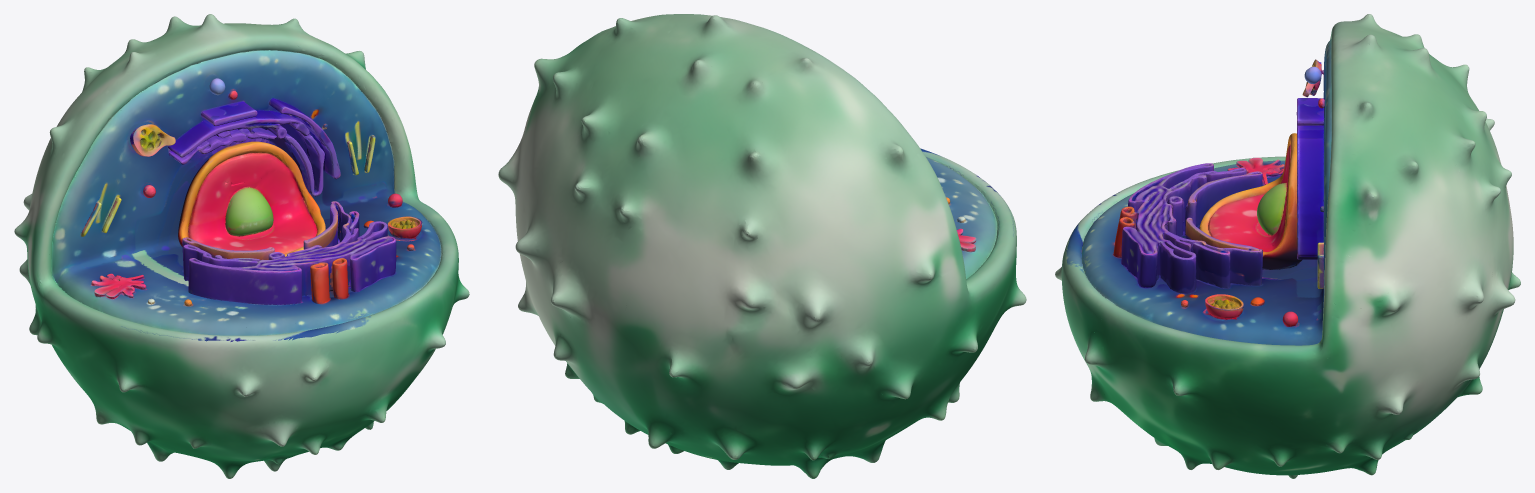
File: Celula.glb
3 views of the same model, side by side, from view 1: azimuth 30°, elevation 25°; view 2: azimuth 150°, elevation 25°; view 3: azimuth 270°, elevation 25° (orthographic). The views are drawn at different scales.
Parts seen in each view (by area): view 1: model; view 2: model; view 3: model.
Boxes of the visible parts, x1,y1,x2,y2 form: model: (14, 14, 469, 478); model: (498, 14, 1026, 478); model: (1055, 14, 1520, 478).
Bounding box in the file's own units: 1.86 × 1.9 × 1.83.
1 material, 1 textured.
